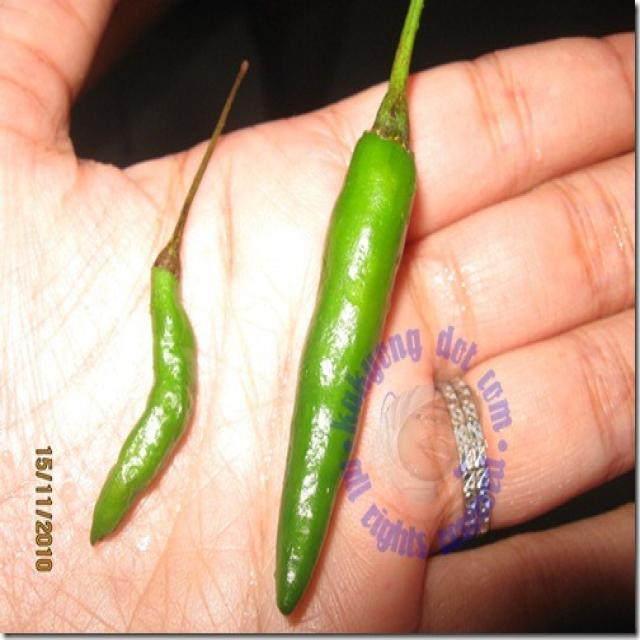green chilli: (277, 0, 423, 616), (90, 61, 248, 545)
